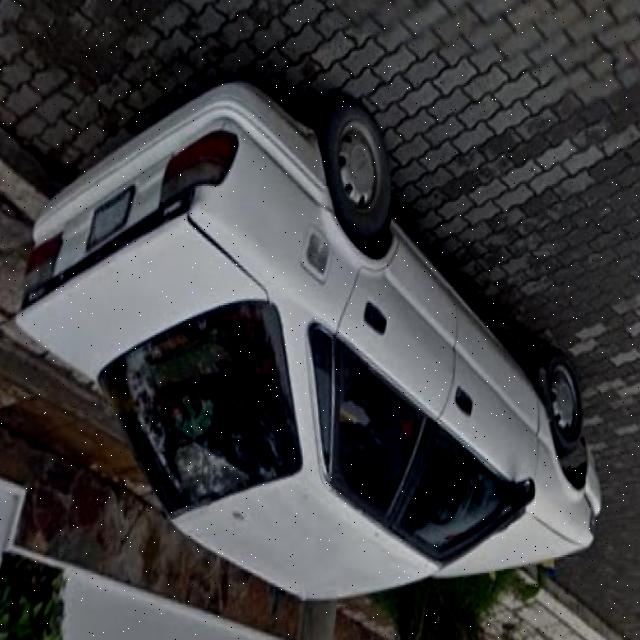car: (21, 83, 596, 640)
